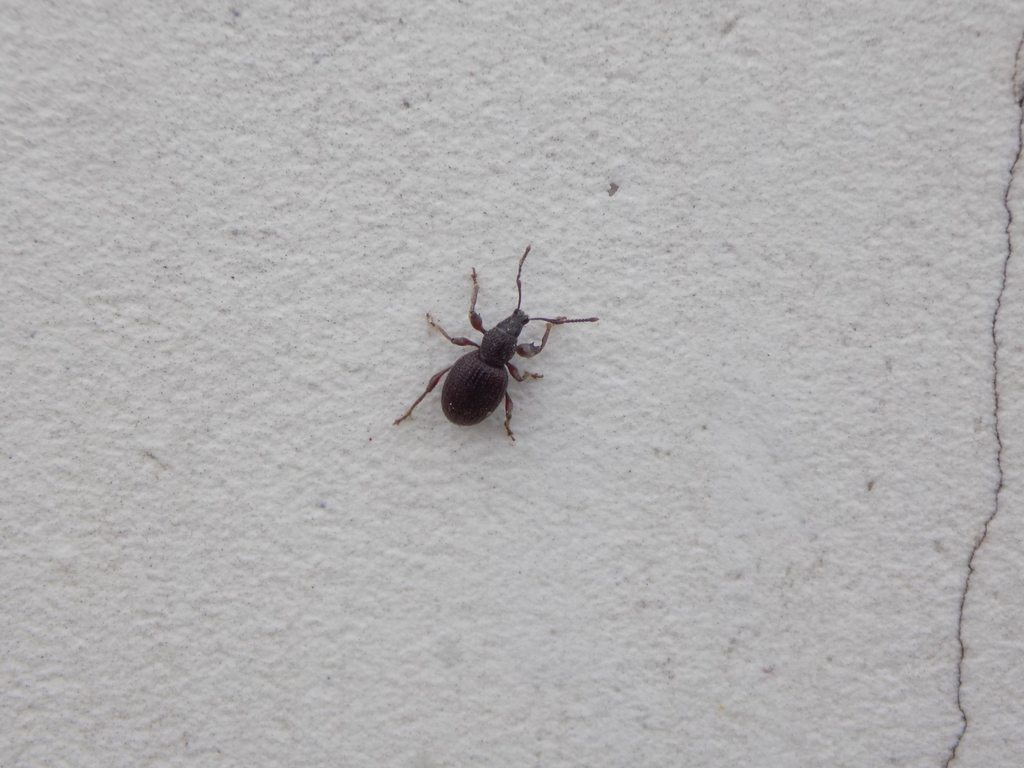weevils: (334, 191, 663, 513)
